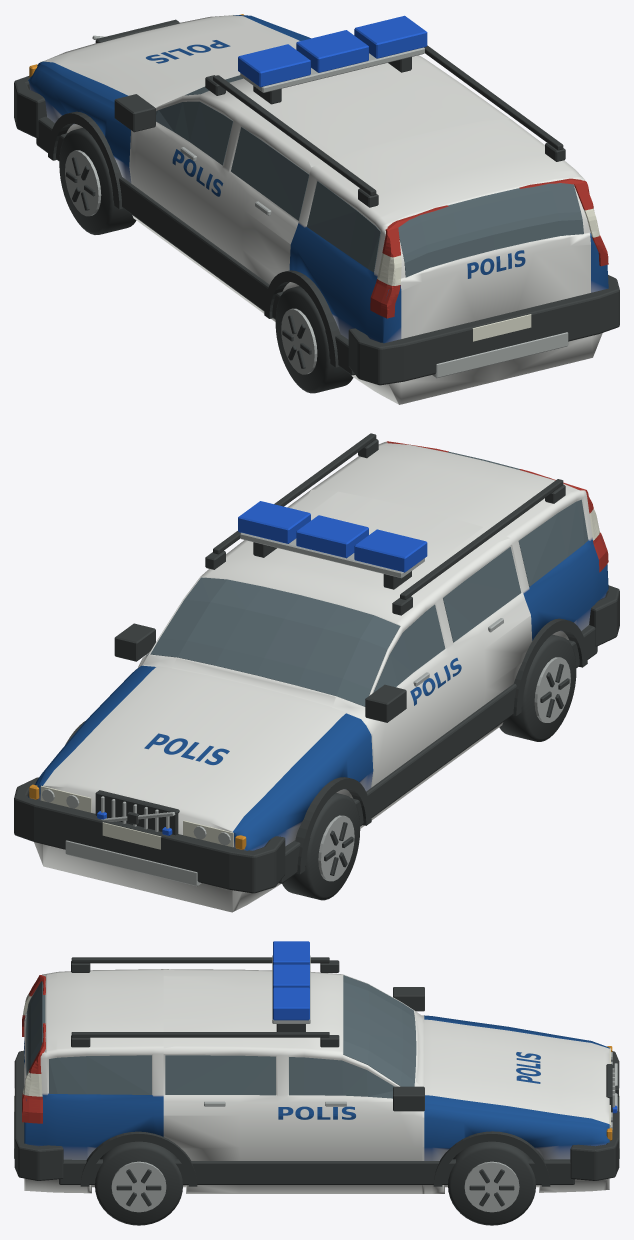
The model's file is xc70-police.glb.
The picture shows the model from 3 angles, top to bottom: view 1: azimuth 30°, elevation 25°; view 2: azimuth 150°, elevation 25°; view 3: azimuth 270°, elevation 25°; orthographic projection. The views are drawn at different scales.
Parts seen in each view (by area): view 1: body, glass_envelope, bumper_rear, trim_sill, wheel_rl, wheel_fl, lamp_blue_module, lamp_tail, lamp_blue_module.002, lamp_blue_module.001, trim_skid_rear, trim_arch.001 (+12 smaller); view 2: body, glass_envelope, bumper_front, trim_sill, wheel_fl, wheel_rl, lamp_blue_module, lamp_blue_module.001, lamp_blue_module.002, trim_skid_front, trim_arch, trim_arch.001 (+12 smaller); view 3: body, glass_envelope, trim_sill.001, wheel_fr, wheel_rr, bumper_rear, bumper_front, trim_rim_fr, trim_rim_rr, trim_arch.002, trim_arch.003, trim_roof_rail.001 (+9 smaller).
Boxes of the visible parts, x1,y1,x2,y2 form: body: (28,15,608,404); glass_envelope: (156,75,583,277); bumper_rear: (348,275,619,385); trim_sill: (36,116,354,375); wheel_rl: (275,286,353,393); wheel_fl: (59,127,136,234); lamp_blue_module: (238,44,310,87); lamp_tail: (370,205,448,318); lamp_blue_module.002: (354,15,427,58); lamp_blue_module.001: (296,30,368,72); trim_skid_rear: (432,332,568,378); trim_arch.001: (264,270,340,367); body: (28,442,608,912); glass_envelope: (146,451,588,706); bumper_front: (14,777,285,893); trim_sill: (279,625,597,883); wheel_fl: (282,793,360,900); wheel_rl: (499,634,576,741); lamp_blue_module: (354,529,427,572); lamp_blue_module.001: (296,515,368,558); lamp_blue_module.002: (238,501,310,543); trim_skid_front: (65,840,201,886); trim_arch: (295,777,371,874); trim_arch.001: (513,618,587,715); body: (24,969,609,1193); glass_envelope: (26,975,416,1098); trim_sill.001: (59,1159,574,1184); wheel_fr: (448,1141,535,1225); wheel_rr: (95,1141,182,1225); bumper_rear: (14,1050,63,1180); bumper_front: (570,1051,619,1180); trim_rim_fr: (464,1161,519,1212); trim_rim_rr: (111,1161,166,1212); trim_arch.002: (433,1131,550,1186); trim_arch.003: (80,1131,197,1186); trim_roof_rail.001: (71,1032,329,1037).
Size of the model in its own units: 2.02 by 1.75 by 4.74.
9 materials, 1 textured.
